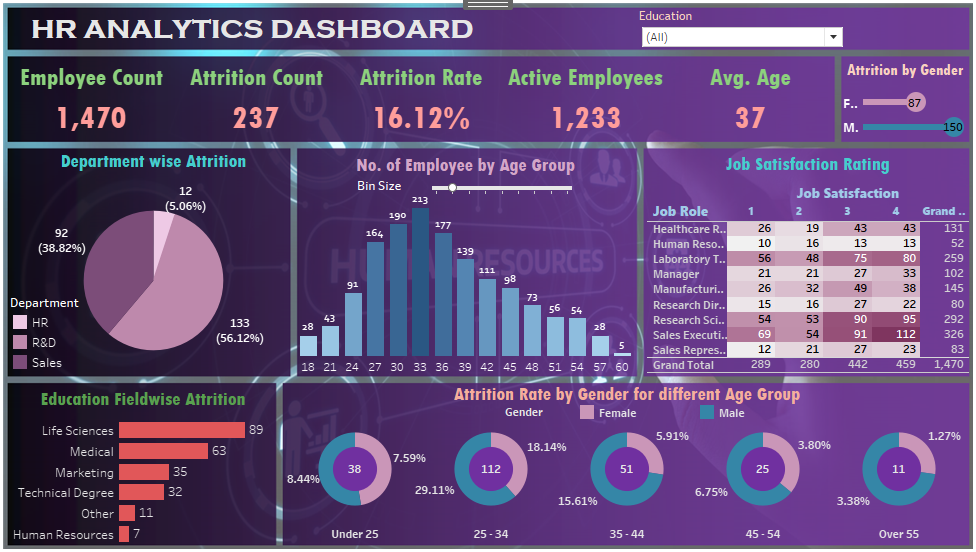

The dashboard page shown, as its layout file describes it:
{"tool":"tableau","page":{"name":"HR ANALYTICS DASHBOARD","canvas":[1150,570],"ordinal":0},"visuals":[{"type":"image","param":"Image/HR background.png","box":[8,8,1134,554]},{"type":"filter","title":"No. of Employee by Age Group","param":"[federated.0y1lme11yz0lwb1a2y99s12lmzsh].[none:Education:nk]","box":[726,18,207,39]},{"type":"text","box":[115,24,484,30]},{"type":"worksheet","title":"KPI","mark":"Automatic","box":[96,66,824,83]},{"type":"worksheet","title":"Attrition by Gender","mark":"Automatic","rows":["Gender"],"cols":["Calculation_993325260613341184","Calculation_993325260613341184"],"box":[930,66,126,82]},{"type":"worksheet","title":"Department wise Attrition","mark":"Pie","box":[104,155,273,233]},{"type":"worksheet","title":"Job Satisfaction Rating","mark":"Square","rows":["Job Role"],"cols":["Job Satisfaction"],"box":[734,158,322,224]},{"type":"worksheet","title":"No. of Employee by Age Group","mark":"Automatic","rows":["Employee Count"],"cols":["Age (bin)"],"box":[384,159,337,223]},{"type":"parameter","param":"[Parameters].[Parameter 1]","box":[444,184,218,27]},{"type":"legend","title":"Department wise Attrition","param":"[federated.0y1lme11yz0lwb1a2y99s12lmzsh].[none:Department:nk]","box":[97,303,140,78]},{"type":"worksheet","title":"Attrition Rate by Gender for different Age Group","mark":"Pie","rows":["Calculation_993325260915453956","Calculation_993325260915453956"],"cols":["CF_age band"],"box":[374,388,680,163]},{"type":"worksheet","title":"Education Fieldwise Attrition","mark":"Automatic","rows":["Education Field"],"cols":["Calculation_993325260613341184"],"box":[98,393,264,161]},{"type":"legend","title":"Attrition Rate by Gender for different Age Group","param":"[federated.0y1lme11yz0lwb1a2y99s12lmzsh].[none:Gender:nk]","box":[592,411,318,28]}]}

Visuals, with their boxes on the page's 1150x570 design canvas (x1, y1, x2, y2). These are canvas units, not pixel positions in the 976x552 screenshot, which may show the page scaled, cropped or inside an application window:
image: locate(8, 8, 1142, 562)
"No. of Employee by Age Group" filter: locate(726, 18, 933, 57)
text: locate(115, 24, 599, 54)
"KPI" worksheet: locate(96, 66, 920, 149)
"Attrition by Gender" worksheet: locate(930, 66, 1056, 148)
"Department wise Attrition" worksheet (Pie marks): locate(104, 155, 377, 388)
"Job Satisfaction Rating" worksheet (Square marks): locate(734, 158, 1056, 382)
"No. of Employee by Age Group" worksheet: locate(384, 159, 721, 382)
parameter: locate(444, 184, 662, 211)
"Department wise Attrition" legend: locate(97, 303, 237, 381)
"Attrition Rate by Gender for different Age Group" worksheet (Pie marks): locate(374, 388, 1054, 551)
"Education Fieldwise Attrition" worksheet: locate(98, 393, 362, 554)
"Attrition Rate by Gender for different Age Group" legend: locate(592, 411, 910, 439)
